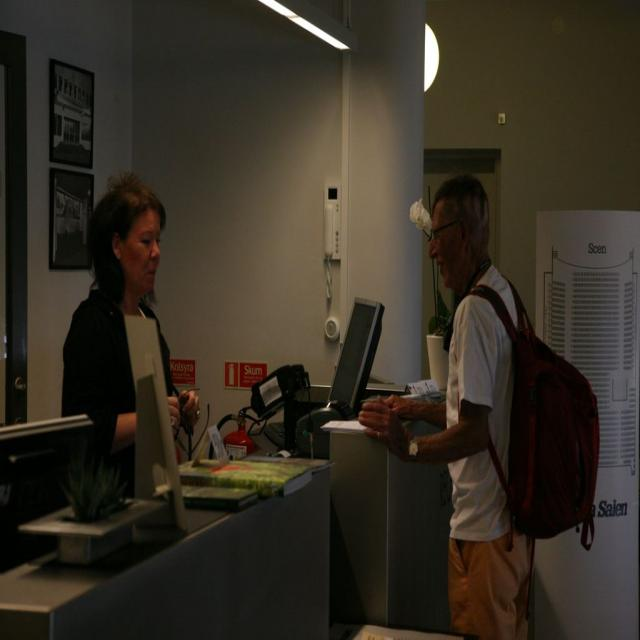desk: (0, 431, 388, 620)
laptop: (136, 342, 258, 524), (286, 297, 385, 453)
person: (361, 174, 538, 632), (60, 170, 201, 494)
